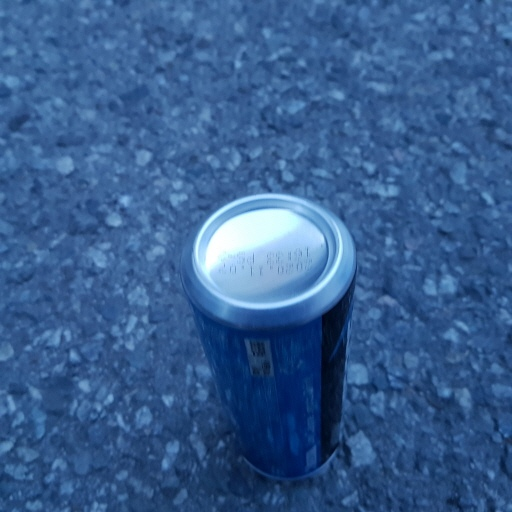Metal_0: (177, 190, 361, 481)
